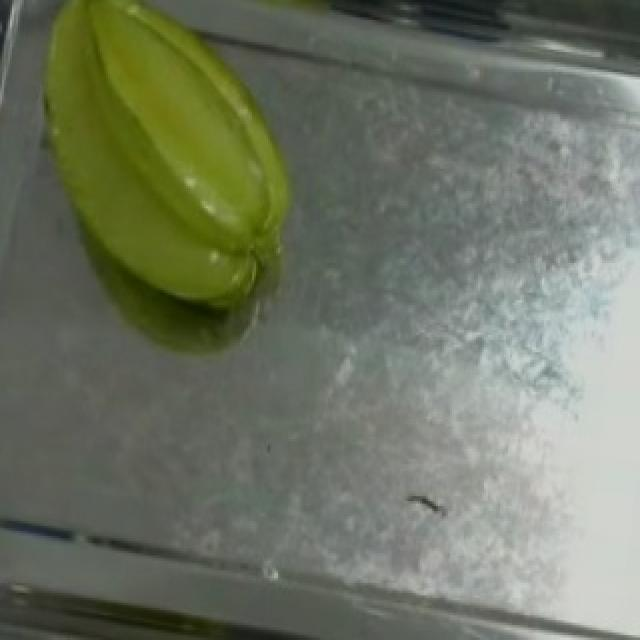fruit: (6, 0, 332, 342)
